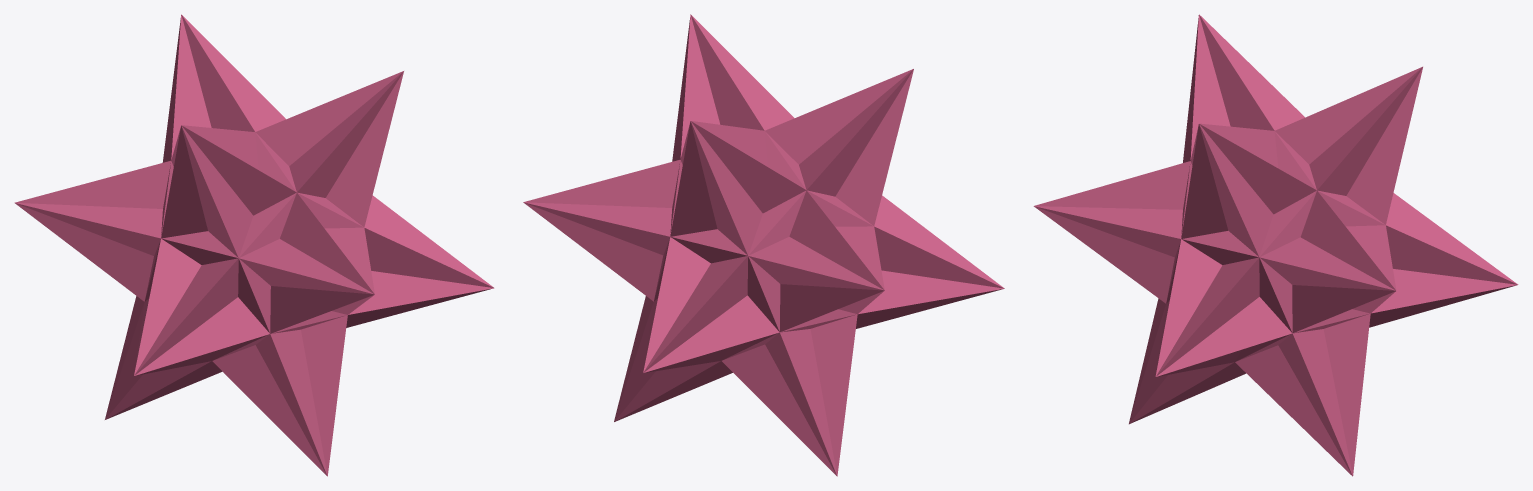
3 views of the same model, side by side, from view 1: azimuth 30°, elevation 25°; view 2: azimuth 150°, elevation 25°; view 3: azimuth 270°, elevation 25° (orthographic).
Visible parts, largest first — view 1: Object_2; view 2: Object_2; view 3: Object_2.
Boxes of the visible parts, x1,y1,x2,y2 form: Object_2: [14, 14, 494, 476]; Object_2: [523, 14, 1004, 476]; Object_2: [1033, 14, 1518, 476].
Bounding box in the file's own units: 5.74 × 5.41 × 6.65.
